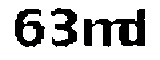3: (51, 5, 78, 50)
6: (9, 5, 45, 50)
d: (126, 9, 153, 50)
m: (81, 15, 125, 50)
